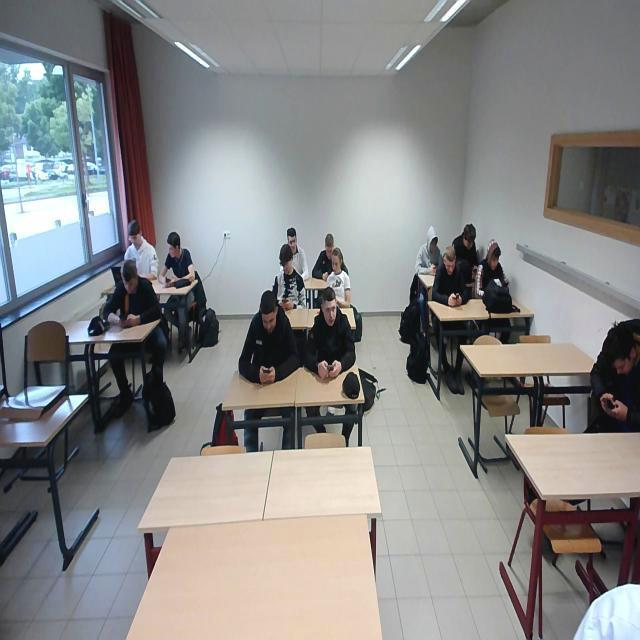Looking away: (322, 288, 339, 326), (127, 222, 142, 251)
Phone use: (590, 321, 640, 436), (238, 291, 296, 384), (102, 260, 158, 326), (271, 244, 304, 314), (475, 240, 510, 302), (158, 228, 194, 288), (433, 250, 467, 307), (452, 223, 484, 277), (312, 230, 348, 278), (326, 248, 350, 308), (415, 227, 443, 274)
